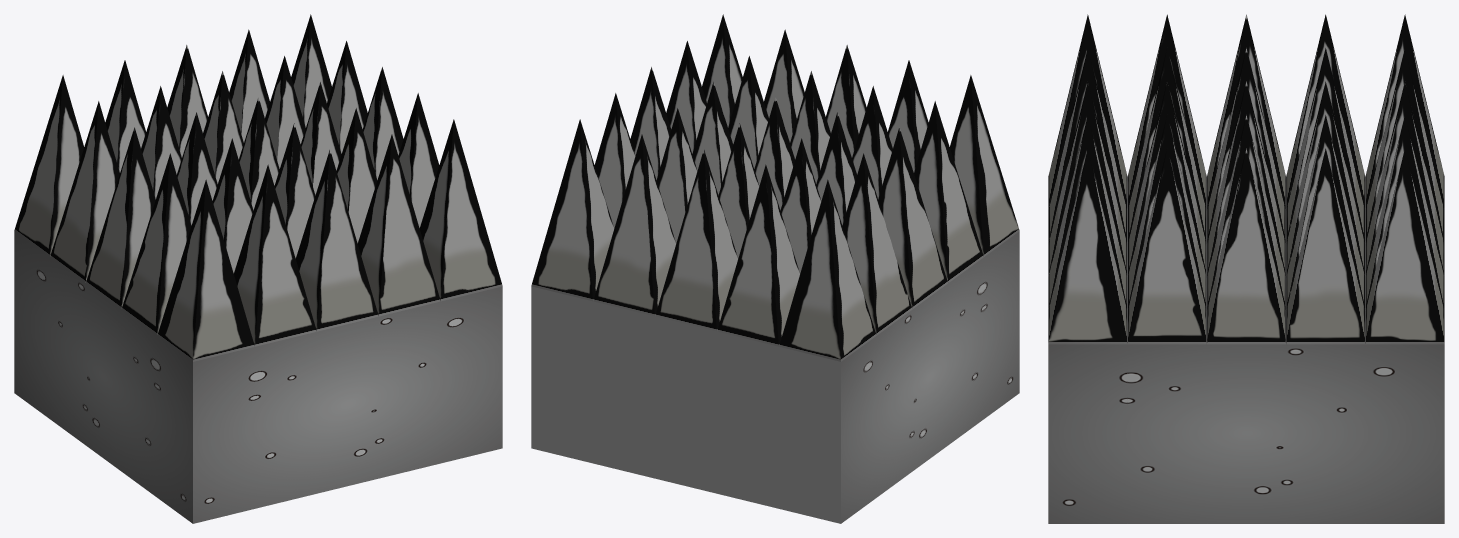
Rendered from needle.fbx.
The picture shows the model from 3 angles, left to right: view 1: azimuth 30°, elevation 25°; view 2: azimuth 150°, elevation 25°; view 3: azimuth 270°, elevation 25°; orthographic projection. The views are drawn at different scales.
Parts seen in each view (by area): view 1: pCube1; view 2: pCube1; view 3: pCube1.
Part boxes in pixels (x1=…): pCube1: x1=14, y1=14, x2=502, y2=523; pCube1: x1=531, y1=14, x2=1019, y2=523; pCube1: x1=1048, y1=14, x2=1444, y2=523.
Bounding box in the file's own units: 20 × 20 × 20.
